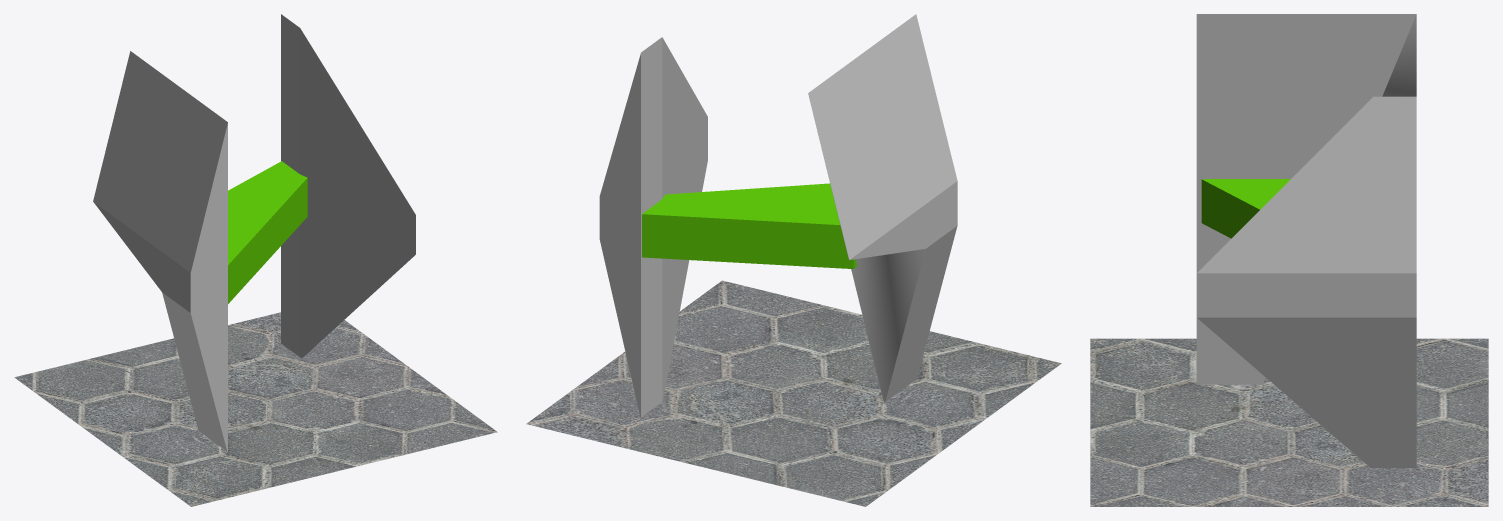
3 views of the same model, side by side, from view 1: azimuth 30°, elevation 25°; view 2: azimuth 150°, elevation 25°; view 3: azimuth 270°, elevation 25° (orthographic). The views are drawn at different scales.
Visible parts, largest first — view 1: H, rt, rt__1_, rt__2_; view 2: H, rt, rt__1_, rt__2_; view 3: rt__1_, H, rt, rt__2_.
Boxes of the visible parts, box(x1,y1,x2,y2) form: H: box(14, 312, 497, 506); rt: box(93, 51, 227, 451); rt__1_: box(281, 14, 415, 357); rt__2_: box(228, 161, 307, 303); H: box(526, 280, 1061, 506); rt: box(808, 14, 957, 402); rt__1_: box(599, 37, 707, 417); rt__2_: box(642, 183, 857, 268); rt__1_: box(1196, 96, 1416, 467); H: box(1090, 338, 1488, 506); rt: box(1196, 14, 1416, 384); rt__2_: box(1201, 179, 1290, 238).
Size of the model in its own units: 10000 by 10345 by 10000.
